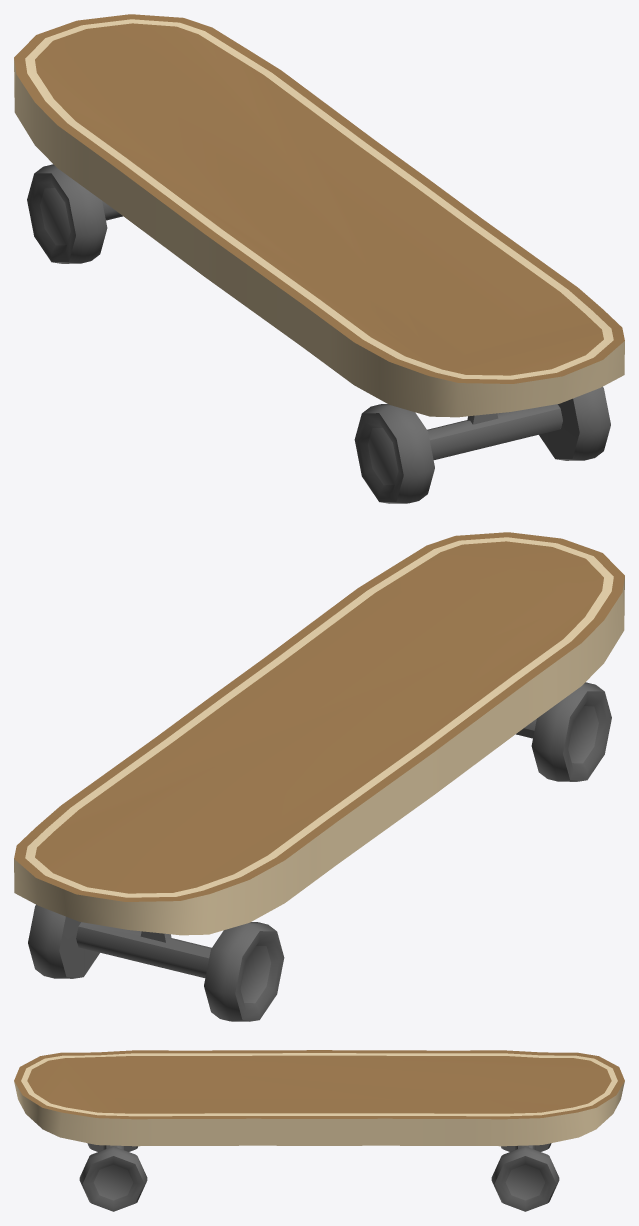
Rendered from Board_1.fbx.
3 renders of one model, top to bottom at view 1: azimuth 30°, elevation 25°; view 2: azimuth 150°, elevation 25°; view 3: azimuth 270°, elevation 25°, orthographic. The views are drawn at different scales.
Visible parts, largest first — view 1: Board_1, Board_1 RF Tire, Board_1 RB Tire, Board_1 LF Tire; view 2: Board_1, Board_1 RB Tire, Board_1 RF Tire, Board_1 LB Tire; view 3: Board_1, Board_1 LB Tire, Board_1 LF Tire.
Boxes of the visible parts, box(x1,y1,x2,y2) form: Board_1: box(14, 14, 624, 459); Board_1 RF Tire: box(354, 404, 434, 503); Board_1 RB Tire: box(27, 164, 107, 263); Board_1 LF Tire: box(539, 386, 610, 460); Board_1: box(14, 532, 624, 977); Board_1 RB Tire: box(204, 922, 284, 1021); Board_1 RF Tire: box(531, 682, 611, 781); Board_1 LB Tire: box(28, 904, 99, 978); Board_1: box(14, 1050, 624, 1149); Board_1 LB Tire: box(491, 1146, 559, 1211); Board_1 LF Tire: box(79, 1146, 147, 1211).
Size of the model in its own units: 0.2609 by 0.1798 by 0.9748.
